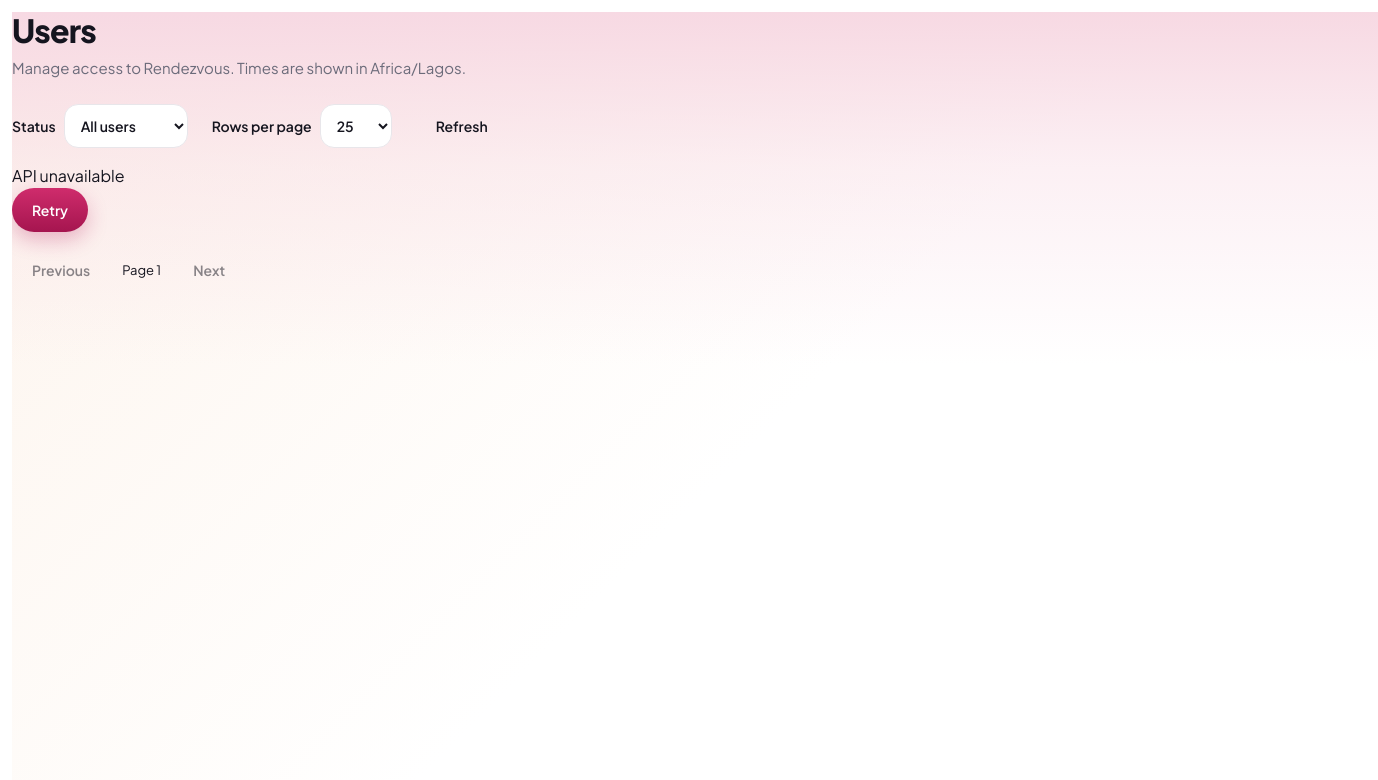
Test: users console › shows errors and retries
Check: the message shows "API unavailable", box [12,166,125,186]
Click the button "Retry".
click(50, 210)  # box [12,188,88,232]
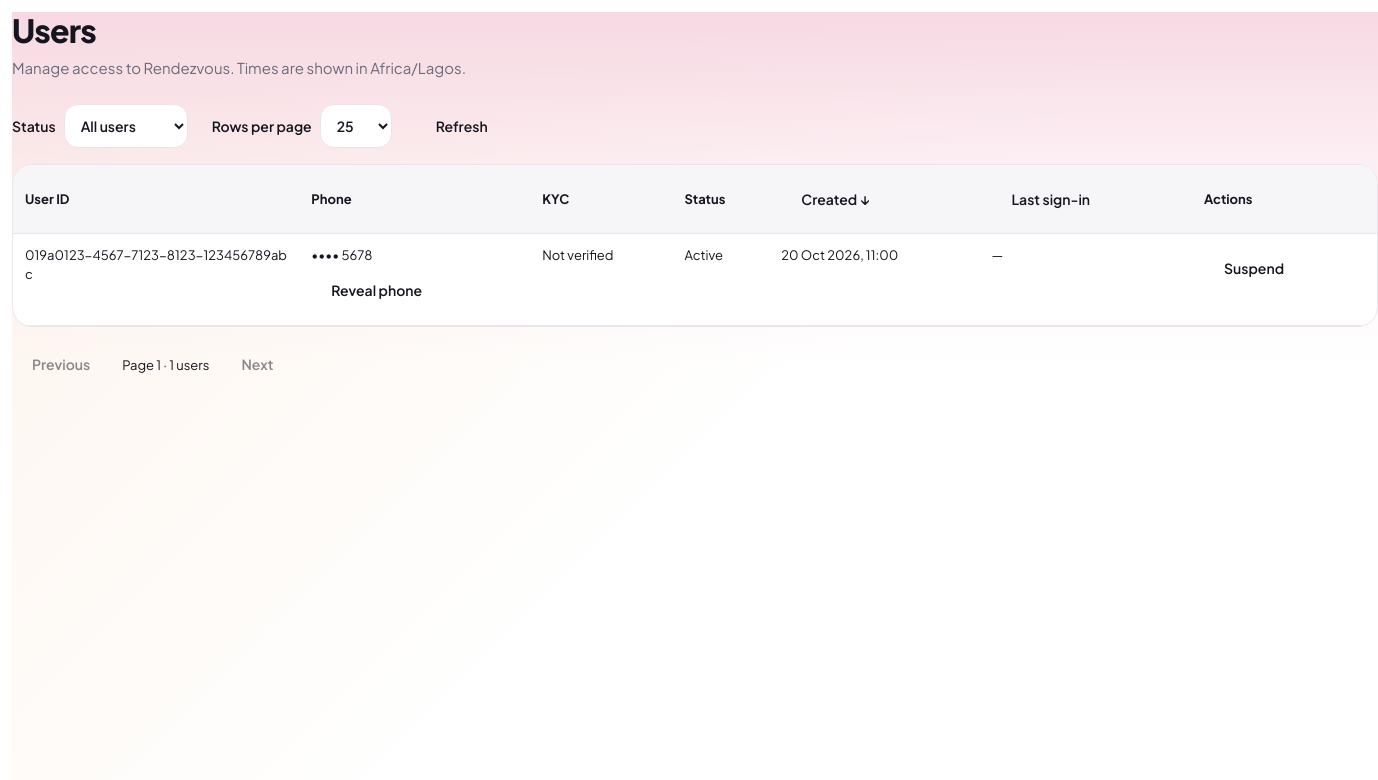
Check: the column heading "019a0123-4567-7123-8123-123456789abc" is shown, box [13,234,299,325]
